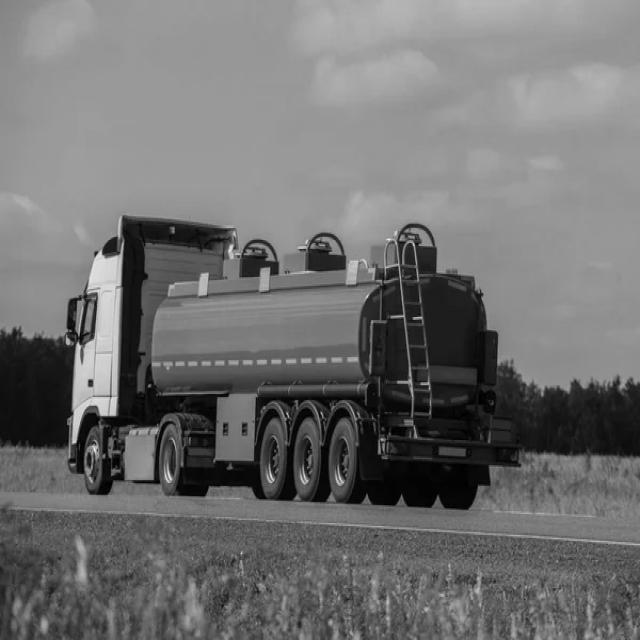Truck: (65, 217, 521, 510)
